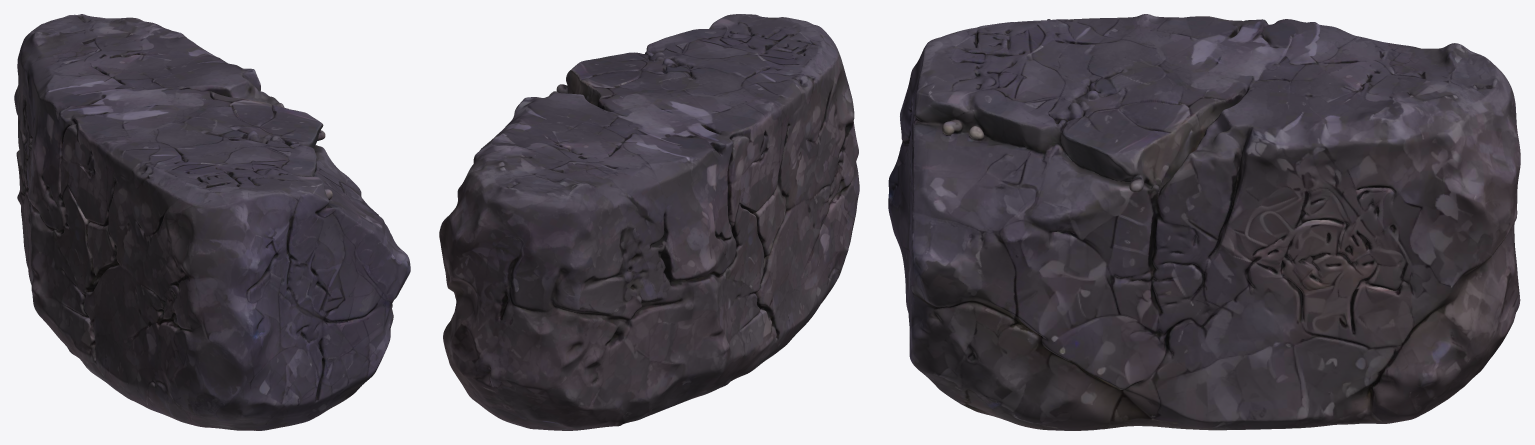
File: altar_fragment_a.glb
3 renders of one model, left to right at view 1: azimuth 30°, elevation 25°; view 2: azimuth 150°, elevation 25°; view 3: azimuth 270°, elevation 25°, orthographic. The views are drawn at different scales.
Parts seen in each view (by area): view 1: tripo_node_ac35f487-14f1-4531-8ce8-aa712760ada4; view 2: tripo_node_ac35f487-14f1-4531-8ce8-aa712760ada4; view 3: tripo_node_ac35f487-14f1-4531-8ce8-aa712760ada4.
Boxes of the visible parts, x1,y1,x2,y2 form: tripo_node_ac35f487-14f1-4531-8ce8-aa712760ada4: (14,14,410,430); tripo_node_ac35f487-14f1-4531-8ce8-aa712760ada4: (439,14,859,430); tripo_node_ac35f487-14f1-4531-8ce8-aa712760ada4: (888,14,1520,430).
Bounding box in the file's own units: 0.512 × 0.5463 × 1.
Materials: 1 (1 with a texture image).
